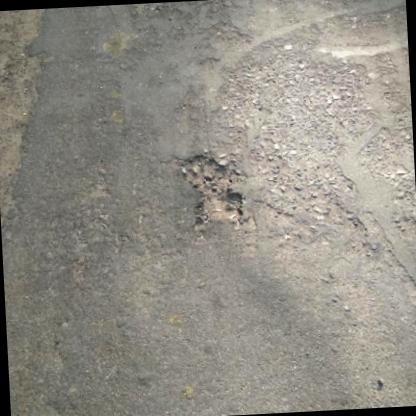pothole: (176, 149, 248, 230)
